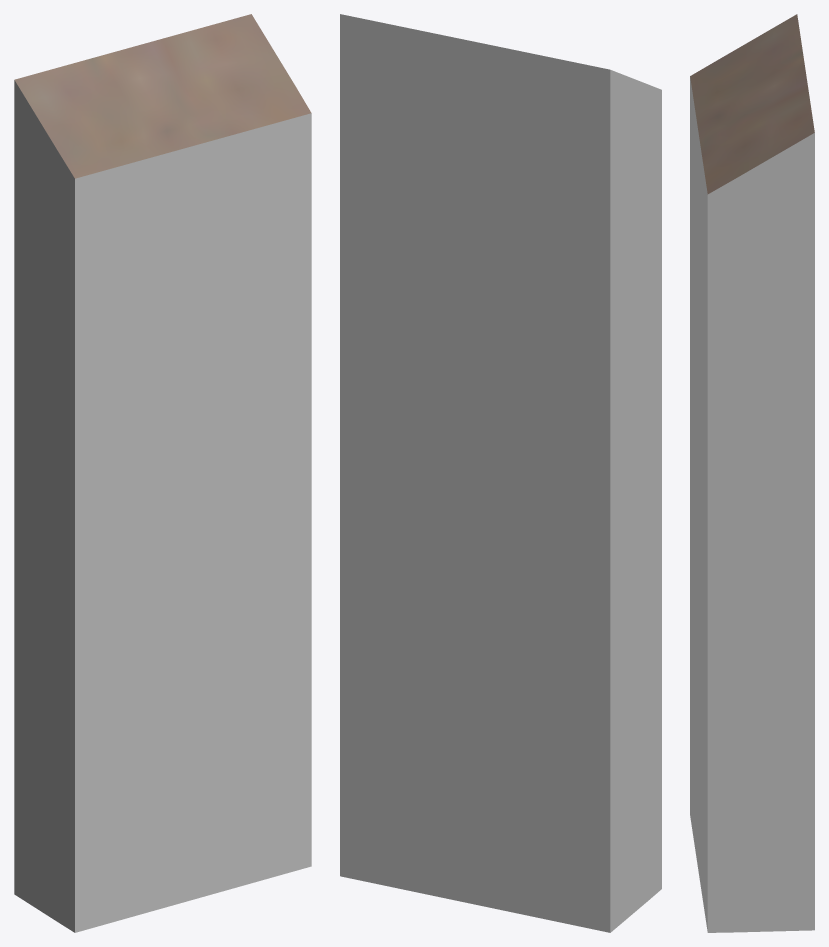
The model's file is DEBW_0010007TI0e.gltf.
3 views of the same model, side by side, from view 1: azimuth 30°, elevation 25°; view 2: azimuth 150°, elevation 25°; view 3: azimuth 270°, elevation 25° (orthographic). The views are drawn at different scales.
Visible parts, largest first — view 1: Z_UP; view 2: Z_UP; view 3: Z_UP.
Boxes of the visible parts, x1,y1,x2,y2 form: Z_UP: (14,14,311,932); Z_UP: (340,14,661,932); Z_UP: (690,14,814,932).
Size of the model in its own units: 4.2 by 13 by 1.84.
2 materials, 1 textured.
